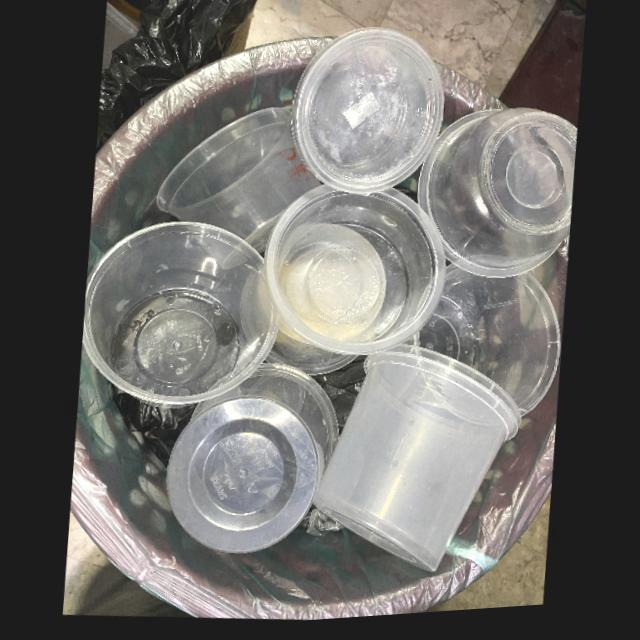plastic_container: (310, 350, 520, 579), (81, 224, 277, 407), (162, 368, 337, 559), (262, 189, 445, 361), (416, 115, 576, 286), (292, 34, 445, 200), (155, 110, 322, 259), (412, 270, 559, 424), (188, 236, 249, 273)
